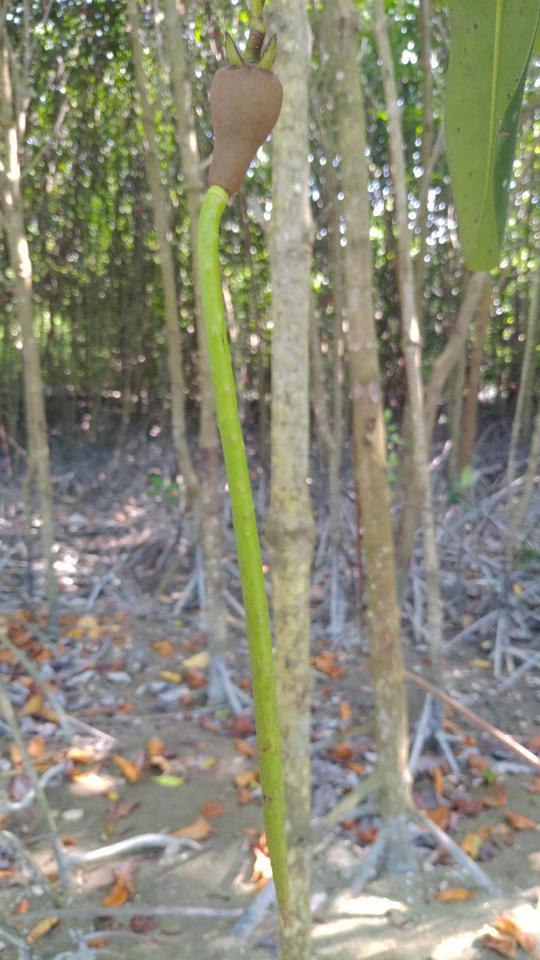setengah matang: (176, 16, 313, 940)
